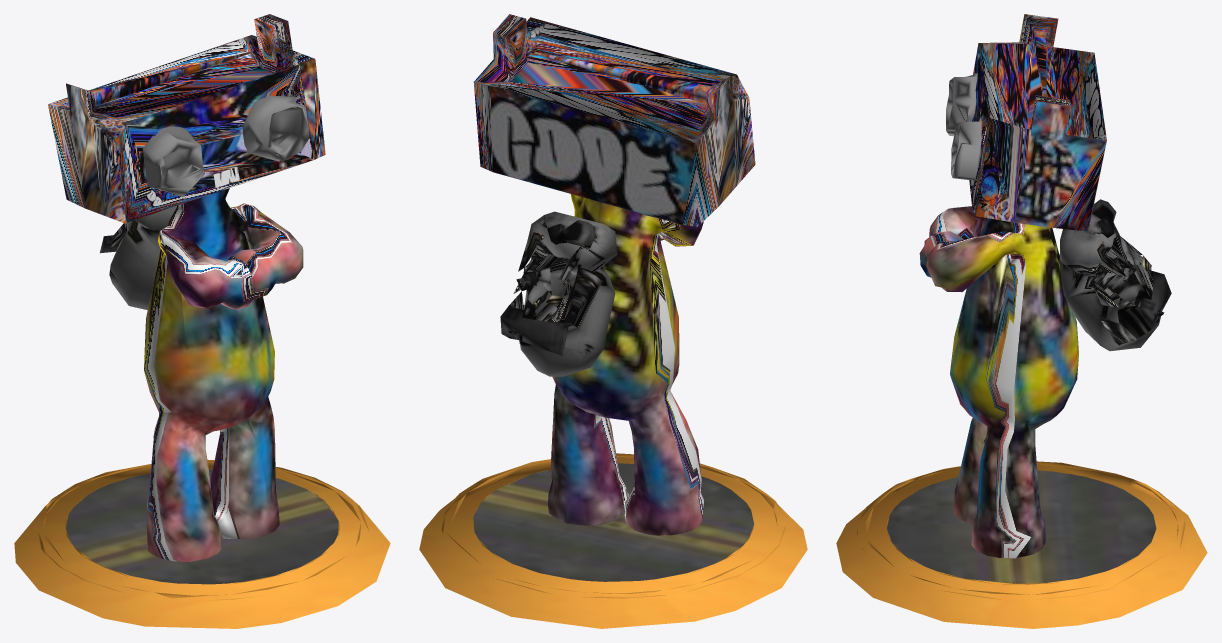
3 views of the same model, side by side, from view 1: azimuth 30°, elevation 25°; view 2: azimuth 150°, elevation 25°; view 3: azimuth 270°, elevation 25° (orthographic). The views are drawn at different scales.
Size of the model in its own units: 1.45 by 2.12 by 1.44.
7 materials, 5 textured.
